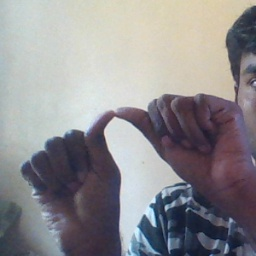A: (22, 90, 245, 220)
